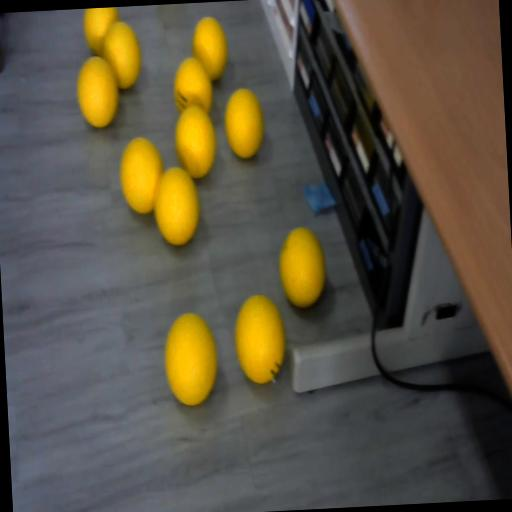FUEL: (162, 310, 220, 406), (231, 291, 288, 385), (276, 222, 328, 308), (151, 164, 202, 247), (118, 136, 164, 214), (173, 104, 219, 179), (222, 85, 266, 159), (100, 18, 144, 92), (171, 56, 215, 116)
